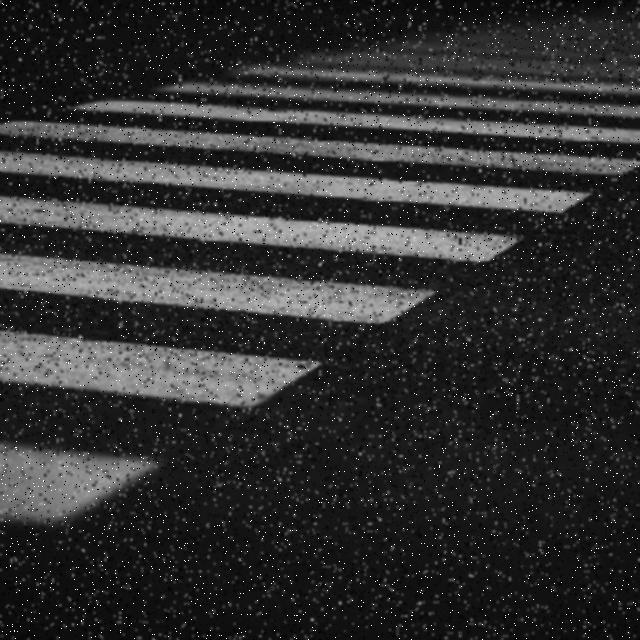Pedestrian crosswalk: (0, 12, 639, 541)
